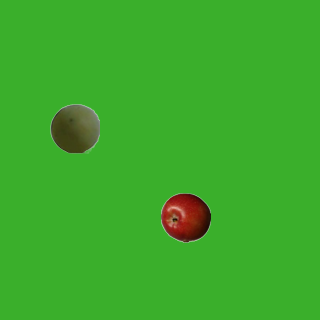Apple Braeburn: (160, 192, 210, 242)
Grape White 4: (49, 103, 99, 153)
